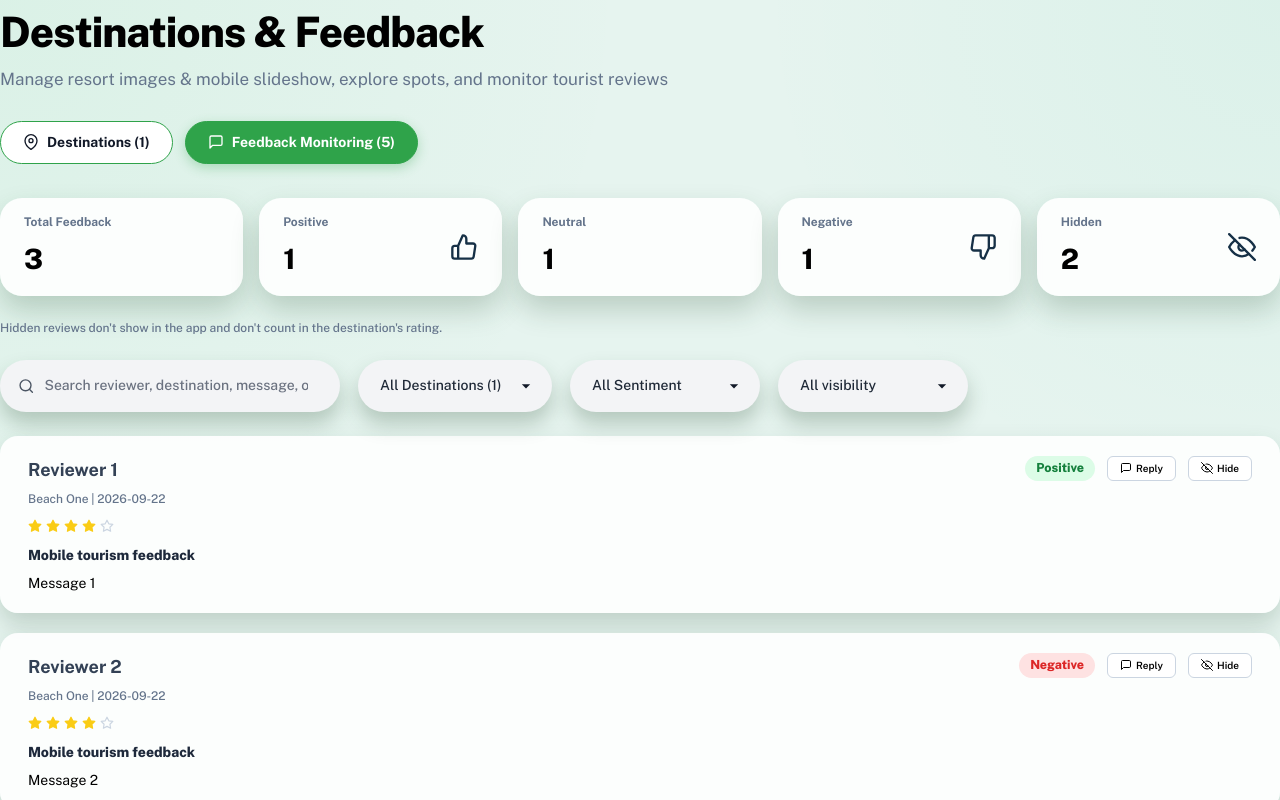
Test: Hide / show a review: the destination detail › its review list and count leave the hidden out, and say how many are hidden
Click the button "Destinations (1)". click: (86, 142)
box: [0,120,173,164]
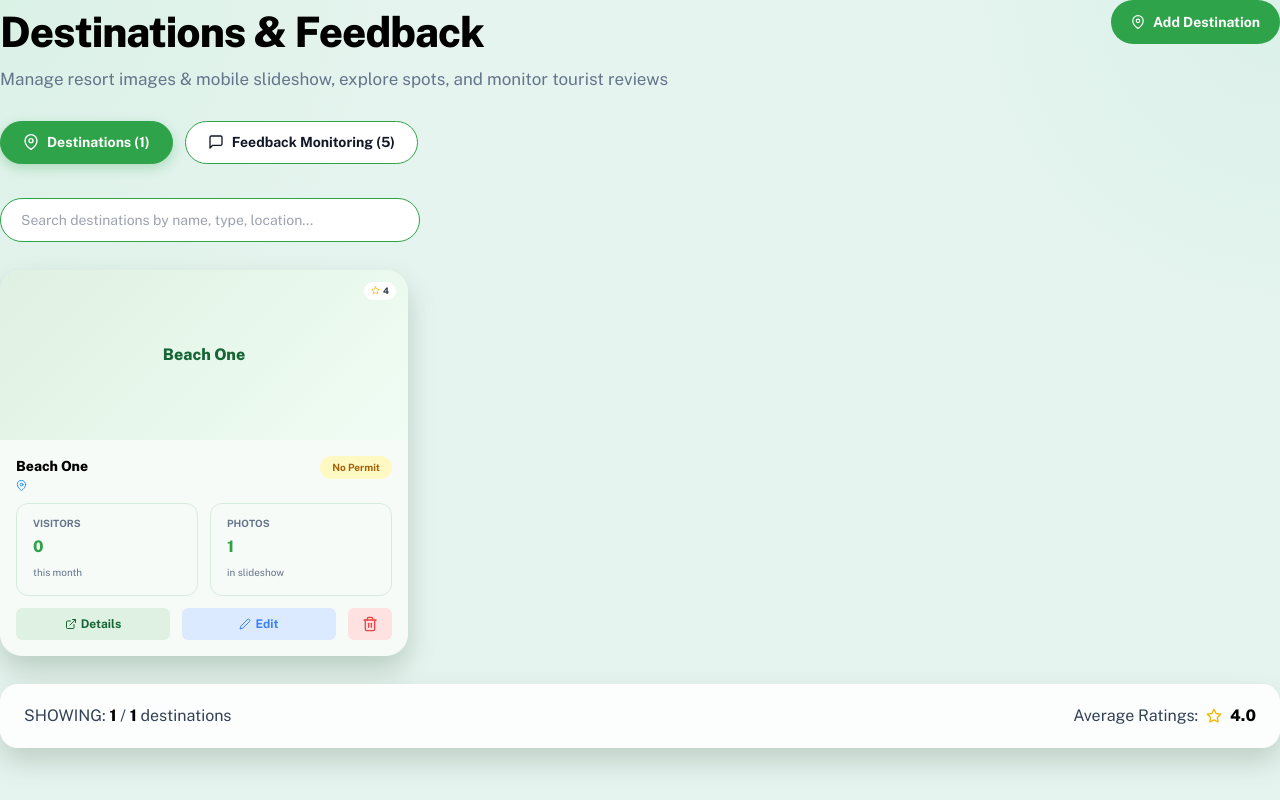
Click the heading "Beach One". click: (52, 466)
box: [16,456,88,476]
(page scrolled)
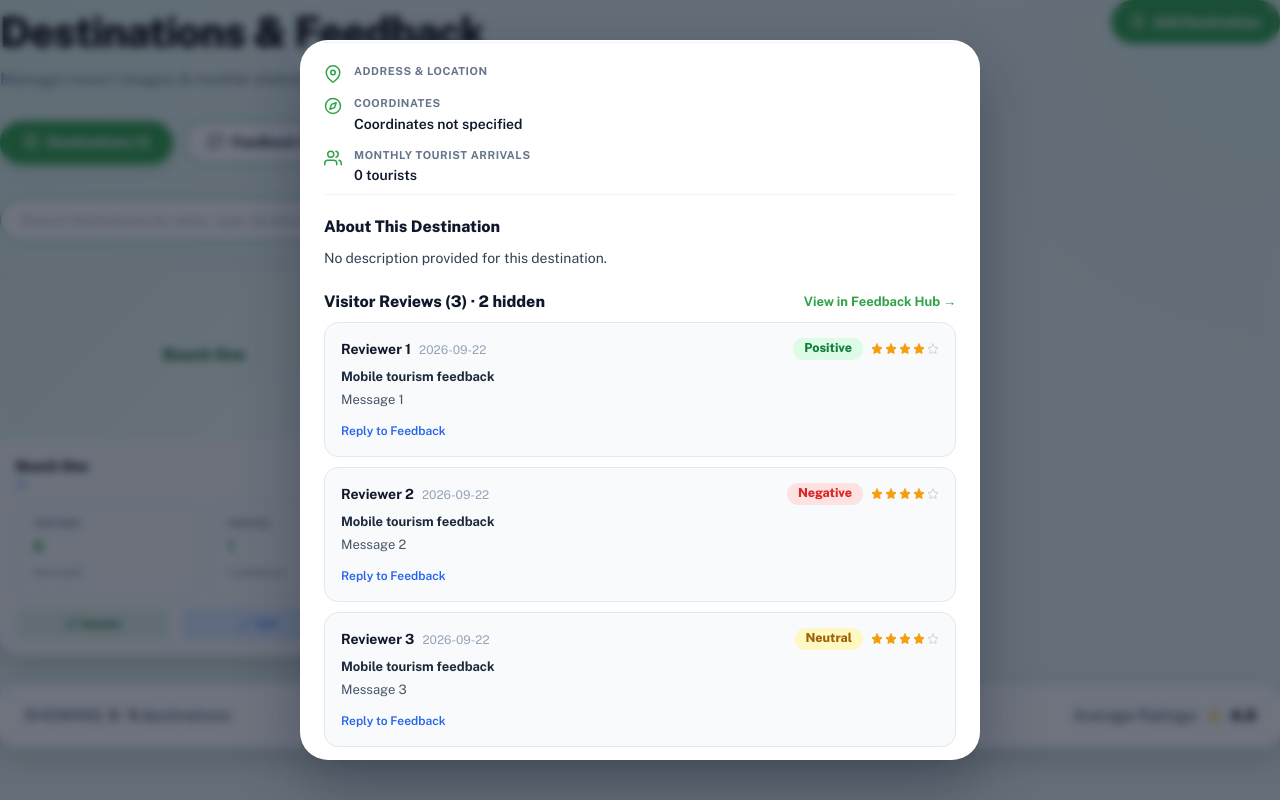
expect the heading "Visitor Reviews (3) · 2 hidden" is shown: met, box [324,290,545,314]
expect the text "· 2 hidden" is shown: met, box [467,292,545,311]
expect the text "Message 1" is shown: met, box [341,392,404,407]
